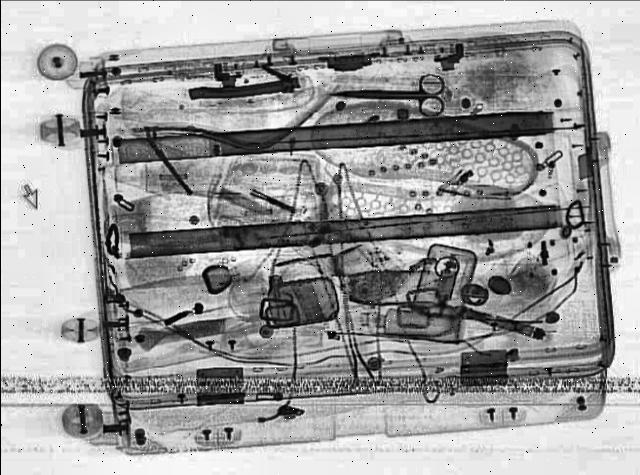Scissors: (328, 74, 448, 118)
